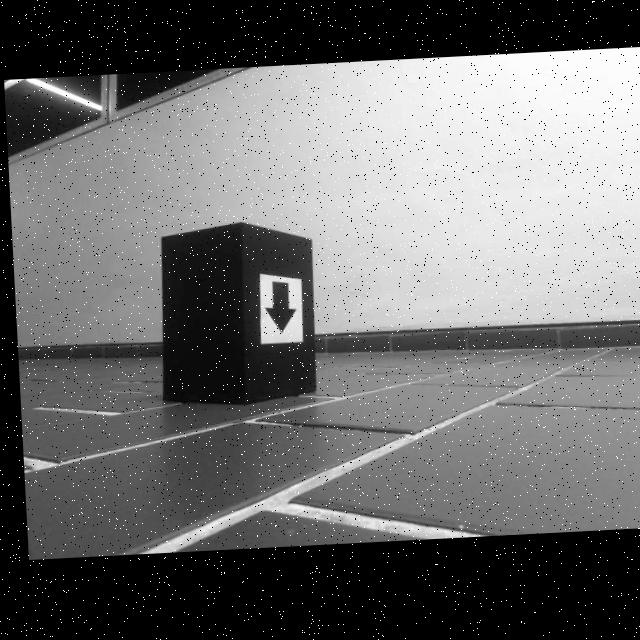DOWN: (259, 284, 294, 338)
